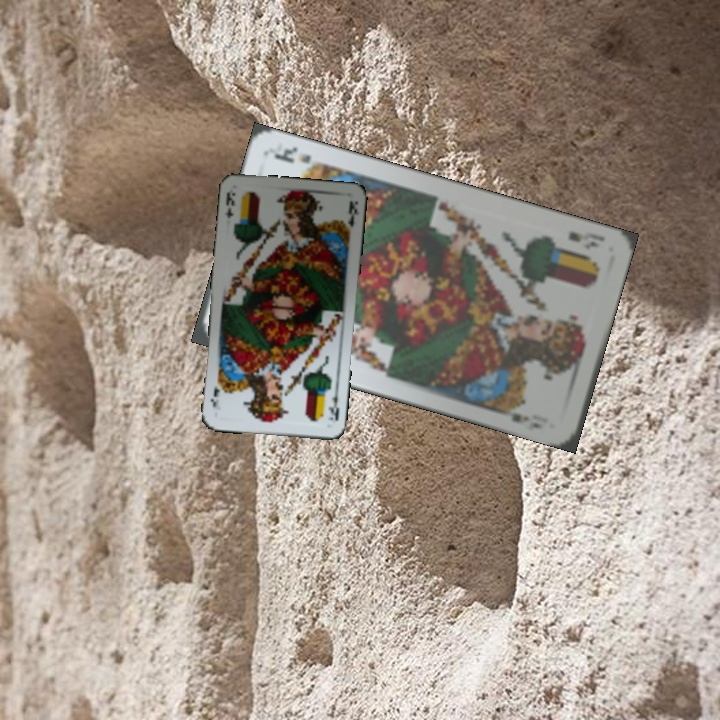EK: (564, 228, 608, 252), (325, 385, 342, 426), (220, 186, 238, 221)
